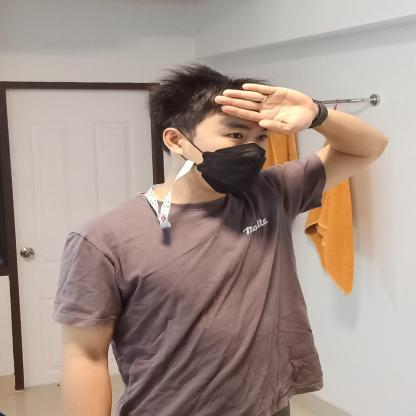Sick: (196, 74, 404, 201)
